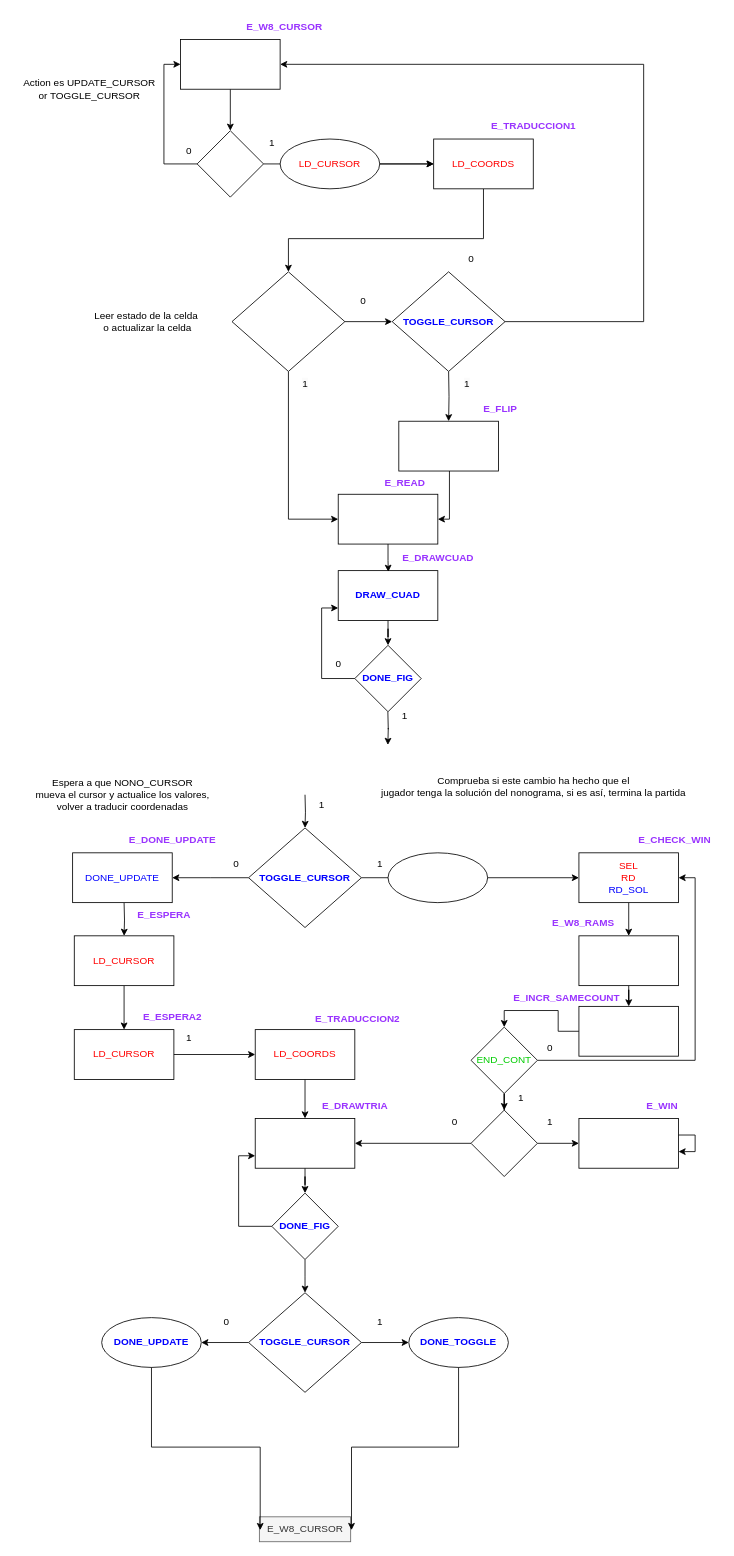
This 734x1556 diagram has some shape labels left out. Here are the shapes that lost their labels. From the top down, the centre of each, then its label:
At point (230, 163): "ACTION".
At point (288, 321): "UPDATE_CURSOR".
At point (448, 445): "WR RD".
At point (387, 518): "RD".
At point (437, 877): "CLR_CONT".
At point (628, 960): "INCR_IF_SAME INCR_CONT".
At point (304, 1143): "DRAW_TRIA".
At point (503, 1143): "WIN".
